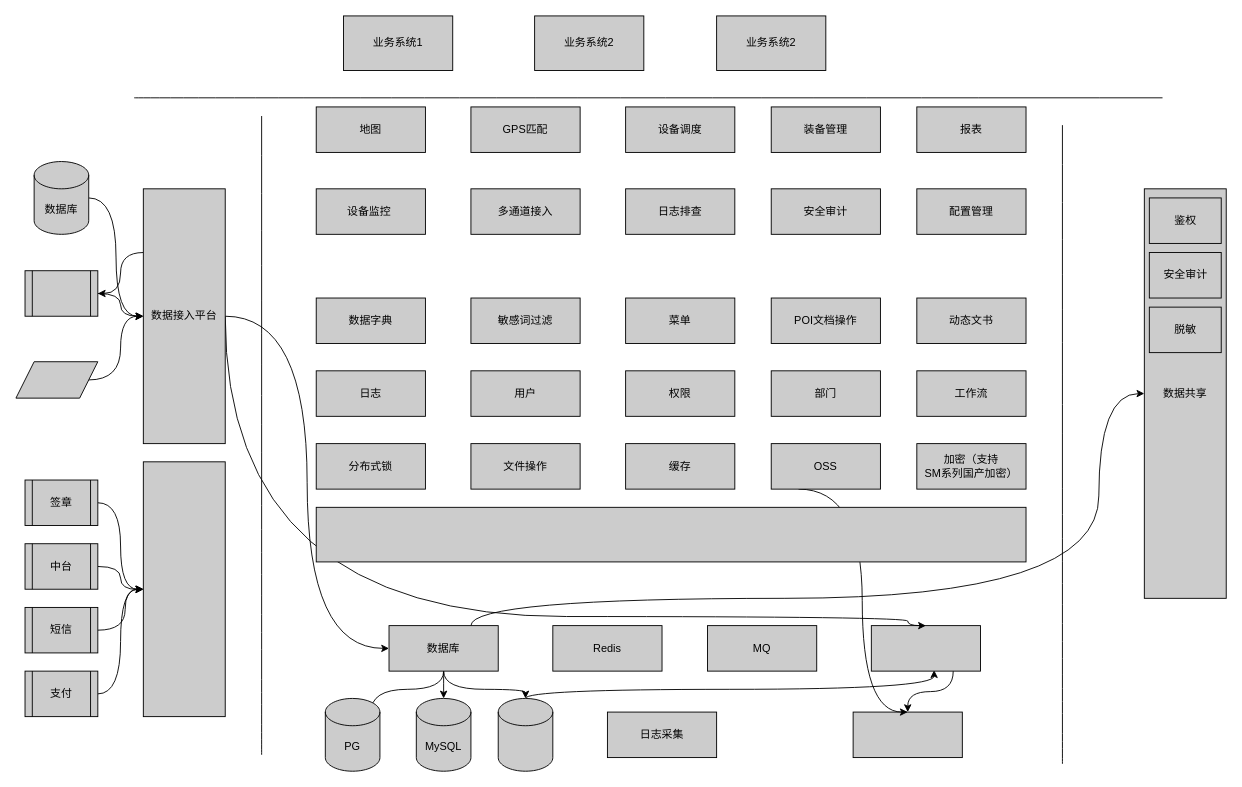
Some shapes in this 1242 by 787 pixel diagram are drawn without their labels. Each missing label, with the centre of its shape:
Ceph: the point at 907,734
ZincSearch(搜索): the point at 925,648
外部服务管 控平台: the point at 183,589
实时计算引擎: the point at 670,534
接口: the point at 61,293
文件: the point at 56,379
达梦: the point at 525,734
